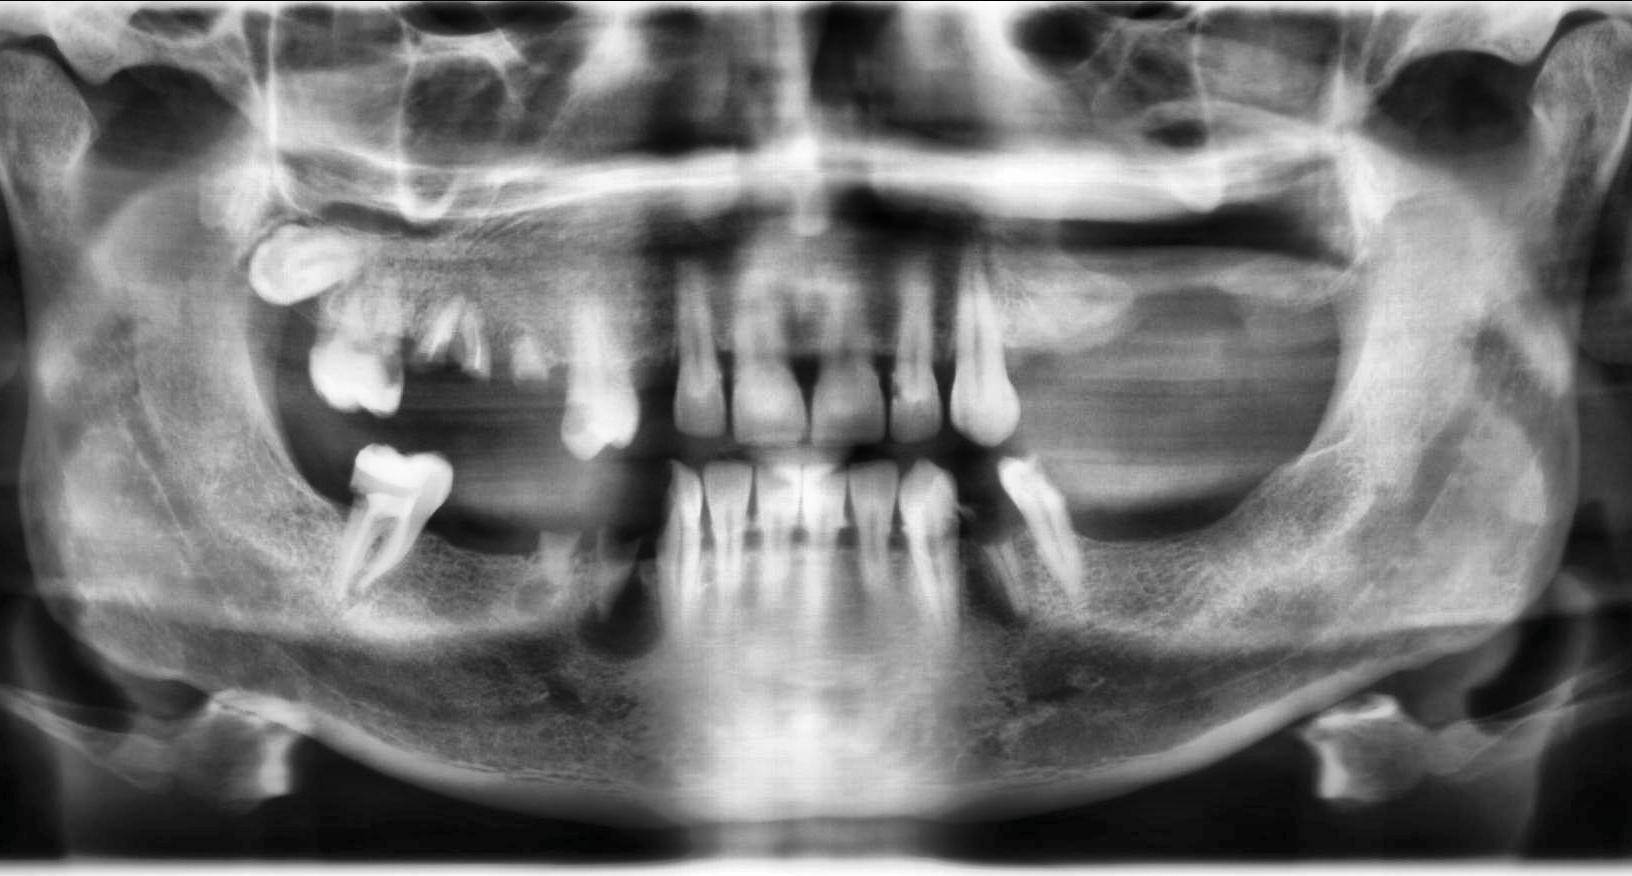radicular: (572, 570, 666, 667)
